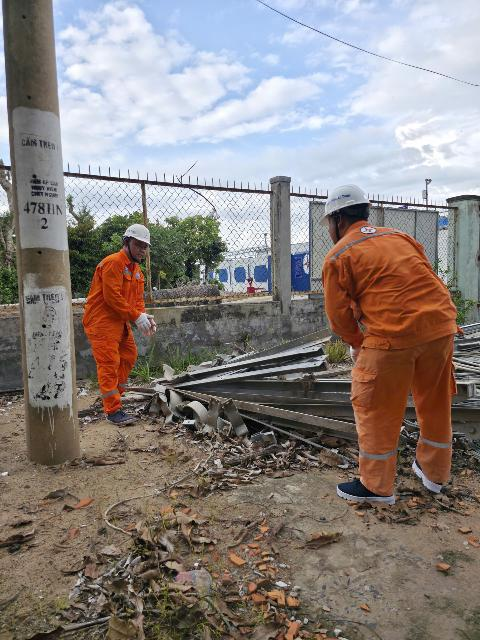gloves: (131, 306, 154, 333), (139, 313, 161, 338), (347, 342, 360, 366)
helmet: (318, 181, 380, 224), (122, 223, 160, 247)
shoes: (327, 473, 420, 512), (412, 456, 447, 496), (103, 404, 141, 438)
